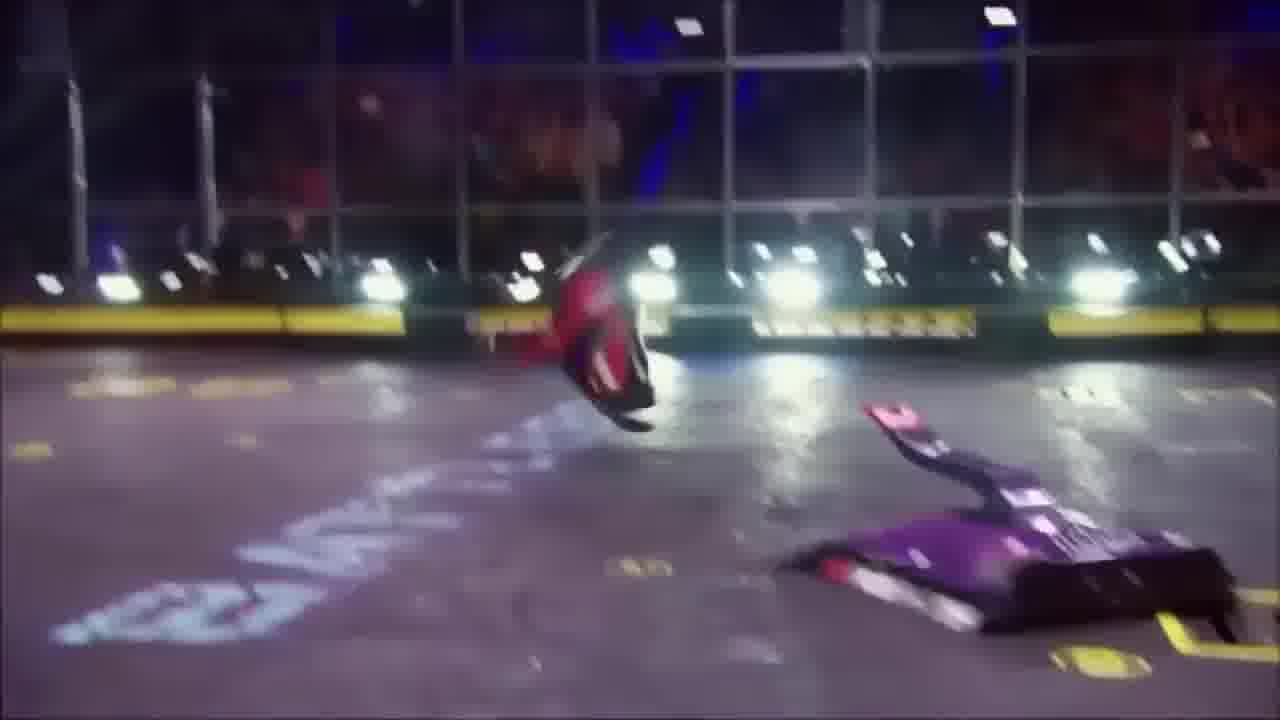combatbot: (776, 501, 1237, 636), (526, 231, 661, 434)
